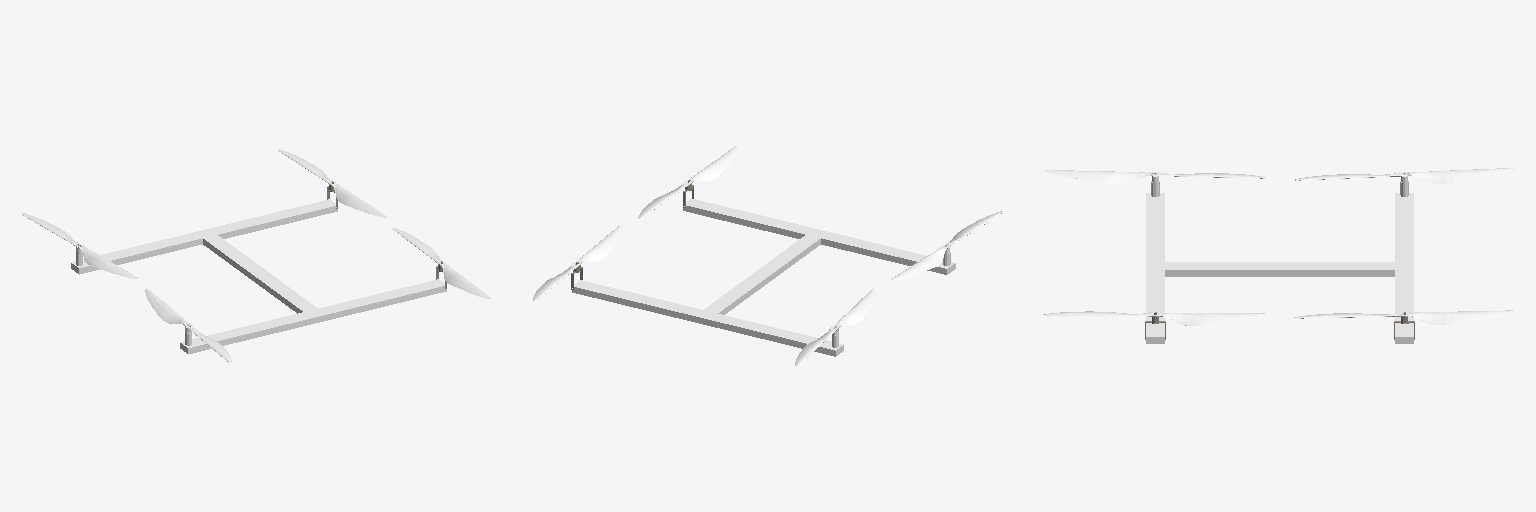
robot.urdf — h_frame_tilt:
<?xml version="1.0" encoding="utf-8"?>
<!-- This URDF was automatically created by SolidWorks to URDF Exporter! Originally created by [author] ([email redacted]) 
     Commit Version: 1.5.1-0-g916b5db  Build Version: 1.5.7152.31018
     For more information, please see http://wiki.ros.org/sw_urdf_exporter -->
<robot
  name="h_frame_tilt">
  <link
    name="base_link">
    <inertial>
      <origin
        xyz="-0.034153 -1.2818E-17 0.0037947"
        rpy="0 0 0" />
      <mass
        value="1.6105" />
      <inertia
        ixx="0.13199"
        ixy="-6.142E-18"
        ixz="0.00024729"
        iyy="0.077457"
        iyz="7.4254E-19"
        izz="0.2093" />
    </inertial>
    <visual>
      <origin
        xyz="0 0 0"
        rpy="0 0 0" />
      <geometry>
        <mesh
          filename="package://h_frame_tilt/meshes/base_link.STL" />
      </geometry>
      <material
        name="">
        <color
          rgba="1 1 1 1" />
      </material>
    </visual>
    <collision>
      <origin
        xyz="0 0 0"
        rpy="0 0 0" />
      <geometry>
        <mesh
          filename="package://h_frame_tilt/meshes/base_link.STL" />
      </geometry>
    </collision>
  </link>
  <link
    name="motor_0">
    <inertial>
      <origin
        xyz="0 5.5511E-17 0.048702"
        rpy="0 0 0" />
      <mass
        value="0.069653" />
      <inertia
        ixx="2.7086E-05"
        ixy="-5.5282E-22"
        ixz="4.1684E-22"
        iyy="1.7498E-05"
        iyz="-7.4714E-21"
        izz="1.2525E-05" />
    </inertial>
    <visual>
      <origin
        xyz="0 0 0"
        rpy="0 0 0" />
      <geometry>
        <mesh
          filename="package://h_frame_tilt/meshes/motor_0.STL" />
      </geometry>
      <material
        name="">
        <color
          rgba="0.65098 0.61961 0.58824 1" />
      </material>
    </visual>
    <collision>
      <origin
        xyz="0 0 0"
        rpy="0 0 0" />
      <geometry>
        <mesh
          filename="package://h_frame_tilt/meshes/motor_0.STL" />
      </geometry>
    </collision>
  </link>
  <joint
    name="motor_0_joint"
    type="revolute">
    <origin
      xyz="0.435 -0.325 0.005"
      rpy="0 0 0" />
    <parent
      link="base_link" />
    <child
      link="motor_0" />
    <axis
      xyz="0 1 0" />
    <limit
      lower="-0.017453"
      upper="1.5708"
      effort="0"
      velocity="0" />
  </joint>
  <link
    name="rotor_0">
    <inertial>
      <origin
        xyz="-7.2818E-09 -6.7605E-09 0.01856"
        rpy="0 0 0" />
      <mass
        value="0.067291" />
      <inertia
        ixx="0.0014406"
        ixy="-8.148E-05"
        ixz="1.1993E-12"
        iyy="1.3241E-05"
        iyz="9.4413E-13"
        izz="0.0014525" />
    </inertial>
    <visual>
      <origin
        xyz="0 0 0"
        rpy="0 0 0" />
      <geometry>
        <mesh
          filename="package://h_frame_tilt/meshes/rotor_0.STL" />
      </geometry>
      <material
        name="">
        <color
          rgba="1 1 1 1" />
      </material>
    </visual>
    <collision>
      <origin
        xyz="0 0 0"
        rpy="0 0 0" />
      <geometry>
        <mesh
          filename="package://h_frame_tilt/meshes/rotor_0.STL" />
      </geometry>
    </collision>
  </link>
  <joint
    name="rotor_0_joint"
    type="continuous">
    <origin
      xyz="0 0 0.047"
      rpy="0 0 0" />
    <parent
      link="motor_0" />
    <child
      link="rotor_0" />
    <axis
      xyz="0 0 1" />
  </joint>
  <link
    name="rotor_1">
    <inertial>
      <origin
        xyz="-6.5349E-09 -6.908E-09 0.015147"
        rpy="0 0 0" />
      <mass
        value="0.067291" />
      <inertia
        ixx="0.0014403"
        ixy="8.41E-05"
        ixz="1.0874E-12"
        iyy="1.3545E-05"
        iyz="1.0294E-12"
        izz="0.0014525" />
    </inertial>
    <visual>
      <origin
        xyz="0 0 0"
        rpy="0 0 0" />
      <geometry>
        <mesh
          filename="package://h_frame_tilt/meshes/rotor_1.STL" />
      </geometry>
      <material
        name="">
        <color
          rgba="1 1 1 1" />
      </material>
    </visual>
    <collision>
      <origin
        xyz="0 0 0"
        rpy="0 0 0" />
      <geometry>
        <mesh
          filename="package://h_frame_tilt/meshes/rotor_1.STL" />
      </geometry>
    </collision>
  </link>
  <joint
    name="rotor_1_joint"
    type="continuous">
    <origin
      xyz="-0.435 0.325 0.053413"
      rpy="0 0 0" />
    <parent
      link="base_link" />
    <child
      link="rotor_1" />
    <axis
      xyz="0 0 1" />
  </joint>
  <link
    name="motor_2">
    <inertial>
      <origin
        xyz="0 5.5511E-17 0.048702"
        rpy="0 0 0" />
      <mass
        value="0.069653" />
      <inertia
        ixx="2.7086E-05"
        ixy="-5.5793E-22"
        ixz="4.1248E-22"
        iyy="1.7498E-05"
        iyz="-6.6645E-21"
        izz="1.2525E-05" />
    </inertial>
    <visual>
      <origin
        xyz="0 0 0"
        rpy="0 0 0" />
      <geometry>
        <mesh
          filename="package://h_frame_tilt/meshes/motor_2.STL" />
      </geometry>
      <material
        name="">
        <color
          rgba="0.65098 0.61961 0.58824 1" />
      </material>
    </visual>
    <collision>
      <origin
        xyz="0 0 0"
        rpy="0 0 0" />
      <geometry>
        <mesh
          filename="package://h_frame_tilt/meshes/motor_2.STL" />
      </geometry>
    </collision>
  </link>
  <joint
    name="motor_2_joint"
    type="revolute">
    <origin
      xyz="0.435 0.325 0.005"
      rpy="0 0 0" />
    <parent
      link="base_link" />
    <child
      link="motor_2" />
    <axis
      xyz="0 1 0" />
    <limit
      lower="-0.017453"
      upper="1.5708"
      effort="0"
      velocity="0" />
  </joint>
  <link
    name="rotor_2">
    <inertial>
      <origin
        xyz="-2.2135E-09 -3.5357E-08 0.01856"
        rpy="0 0 0" />
      <mass
        value="0.067291" />
      <inertia
        ixx="0.0014451"
        ixy="1.4273E-05"
        ixz="6.5469E-13"
        iyy="8.7466E-06"
        iyz="3.5489E-12"
        izz="0.0014525" />
    </inertial>
    <visual>
      <origin
        xyz="0 0 0"
        rpy="0 0 0" />
      <geometry>
        <mesh
          filename="package://h_frame_tilt/meshes/rotor_2.STL" />
      </geometry>
      <material
        name="">
        <color
          rgba="1 1 1 1" />
      </material>
    </visual>
    <collision>
      <origin
        xyz="0 0 0"
        rpy="0 0 0" />
      <geometry>
        <mesh
          filename="package://h_frame_tilt/meshes/rotor_2.STL" />
      </geometry>
    </collision>
  </link>
  <joint
    name="rotor_2_joint"
    type="continuous">
    <origin
      xyz="0 0 0.047"
      rpy="0 0 0" />
    <parent
      link="motor_2" />
    <child
      link="rotor_2" />
    <axis
      xyz="0 0 1" />
  </joint>
  <link
    name="rotor_3">
    <inertial>
      <origin
        xyz="7.2715E-09 -7.1476E-09 0.015147"
        rpy="0 0 0" />
      <mass
        value="0.067296" />
      <inertia
        ixx="0.0014451"
        ixy="-1.9205E-05"
        ixz="-1.1812E-12"
        iyy="8.8623E-06"
        iyz="1.05E-12"
        izz="0.0014526" />
    </inertial>
    <visual>
      <origin
        xyz="0 0 0"
        rpy="0 0 0" />
      <geometry>
        <mesh
          filename="package://h_frame_tilt/meshes/rotor_3.STL" />
      </geometry>
      <material
        name="">
        <color
          rgba="1 1 1 1" />
      </material>
    </visual>
    <collision>
      <origin
        xyz="0 0 0"
        rpy="0 0 0" />
      <geometry>
        <mesh
          filename="package://h_frame_tilt/meshes/rotor_3.STL" />
      </geometry>
    </collision>
  </link>
  <joint
    name="rotor_3_joint"
    type="continuous">
    <origin
      xyz="-0.435 -0.325 0.053413"
      rpy="0 0 0" />
    <parent
      link="base_link" />
    <child
      link="rotor_3" />
    <axis
      xyz="0 0 1" />
  </joint>
</robot>

--- What the picture shows (computed from the rendered views, not written in the file) ---
The picture shows the robot from 3 angles, left to right: view 1: azimuth 30°, elevation 25°; view 2: azimuth 150°, elevation 25°; view 3: azimuth 270°, elevation 25°; orthographic projection.
Model h_frame_tilt with 7 links and 6 joints (2 revolute, 4 continuous), rooted at base_link, posed all joints at 0.
Links seen in each view (by area): view 1: base_link, rotor_1, rotor_2, rotor_3, rotor_0; view 2: base_link, rotor_0, rotor_3, rotor_1, rotor_2; view 3: base_link, rotor_2, rotor_1, rotor_0, rotor_3.
Boxes of the visible links, bbox=[...] form: base_link: bbox=[71, 199, 446, 353]; rotor_1: bbox=[21, 213, 137, 278]; rotor_2: bbox=[278, 149, 386, 217]; rotor_3: bbox=[145, 289, 231, 362]; rotor_0: bbox=[392, 228, 490, 298]; base_link: bbox=[572, 198, 955, 356]; rotor_0: bbox=[638, 146, 738, 218]; rotor_3: bbox=[891, 211, 1002, 280]; rotor_1: bbox=[795, 289, 875, 365]; rotor_2: bbox=[533, 226, 621, 301]; base_link: bbox=[1146, 172, 1413, 343]; rotor_2: bbox=[1294, 310, 1514, 324]; rotor_1: bbox=[1294, 168, 1514, 183]; rotor_0: bbox=[1044, 311, 1266, 325]; rotor_3: bbox=[1045, 170, 1265, 184].
Size in the robot's own frame: 0.9489 by 1.23 by 0.088 metres.
7 mesh visuals loaded from 7 distinct referenced files (7 binary STL).